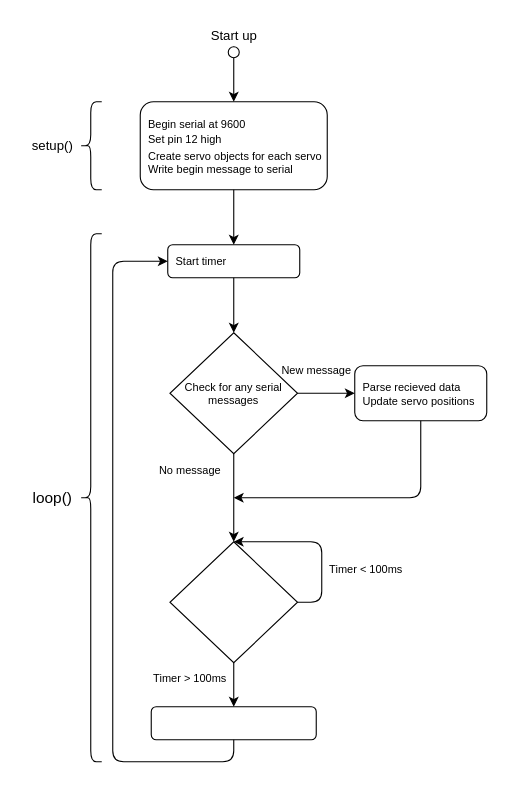
This 506x790 diagram has some shape labels left out. Each missing label, with the box of its shape:
Check if timer > 100ms: (169, 541, 298, 663)
Write servo positions to serial: (150, 706, 316, 740)
